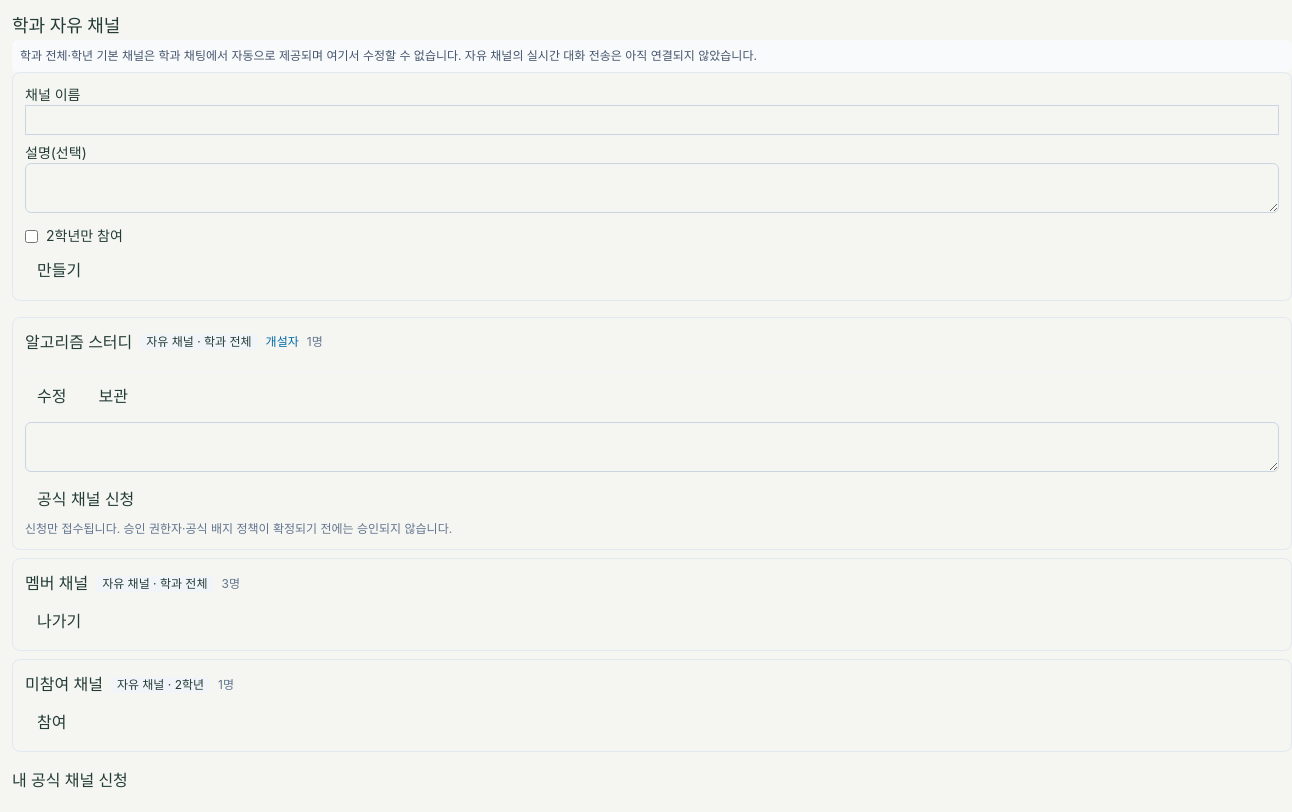
Test: free channels page › offers controls only per server-returned role and never shows an official badge
Expected: the button "수정" is shown, [25,380,78,414]
Expected: the button "공식 채널 신청" is shown, [25,483,146,517]
Click the button "참여" at (52, 723), box [25,706,78,739]
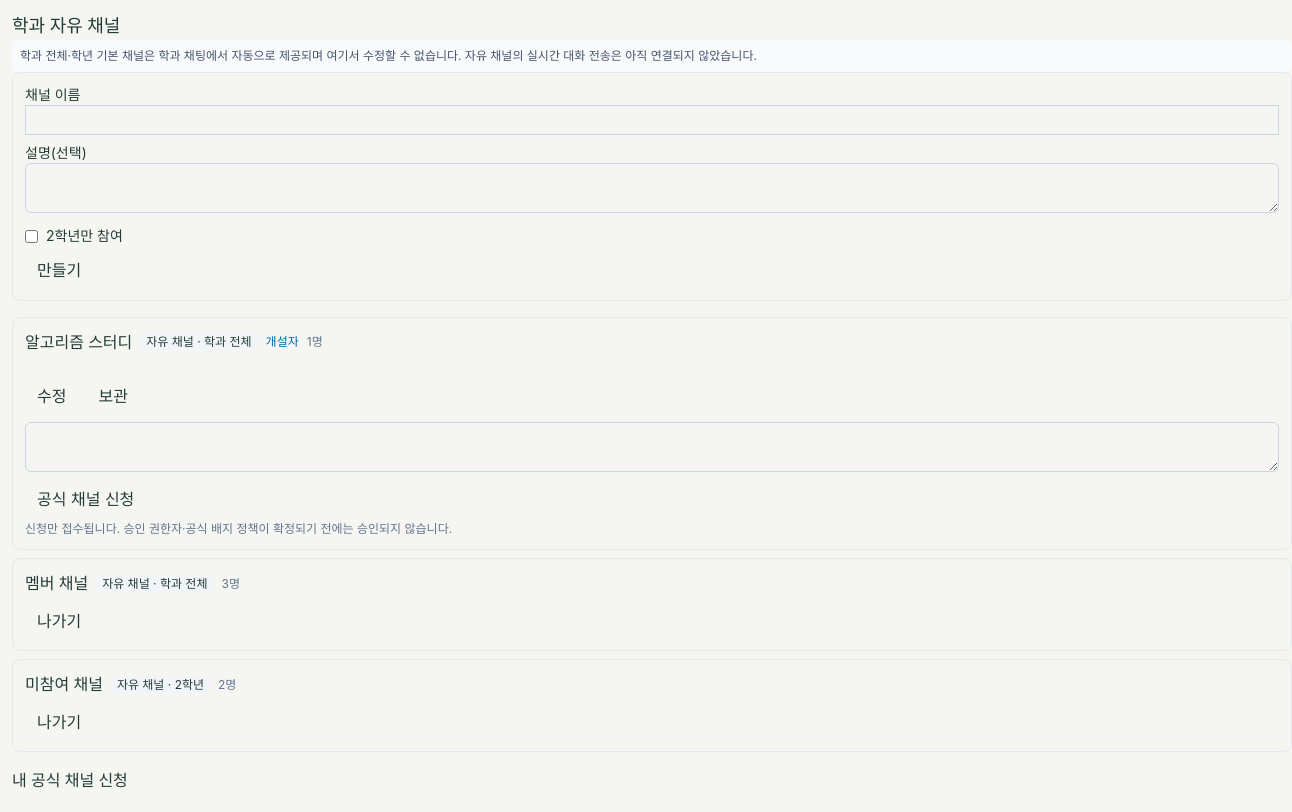
Expected: the text "자유 채널 · 학과 전체" next to "알고리즘 스터디" is shown, [146,334,204,349]
Now the button "나가기" below "미참여 채널" is shown, box [25,706,93,739]
Now the text "2명" is shown, box [218,677,236,693]
